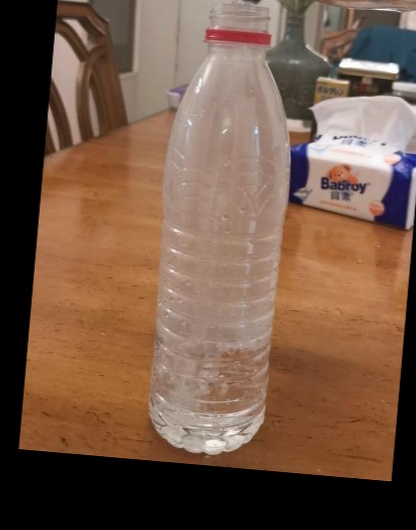bottle: (145, 105, 301, 530)
